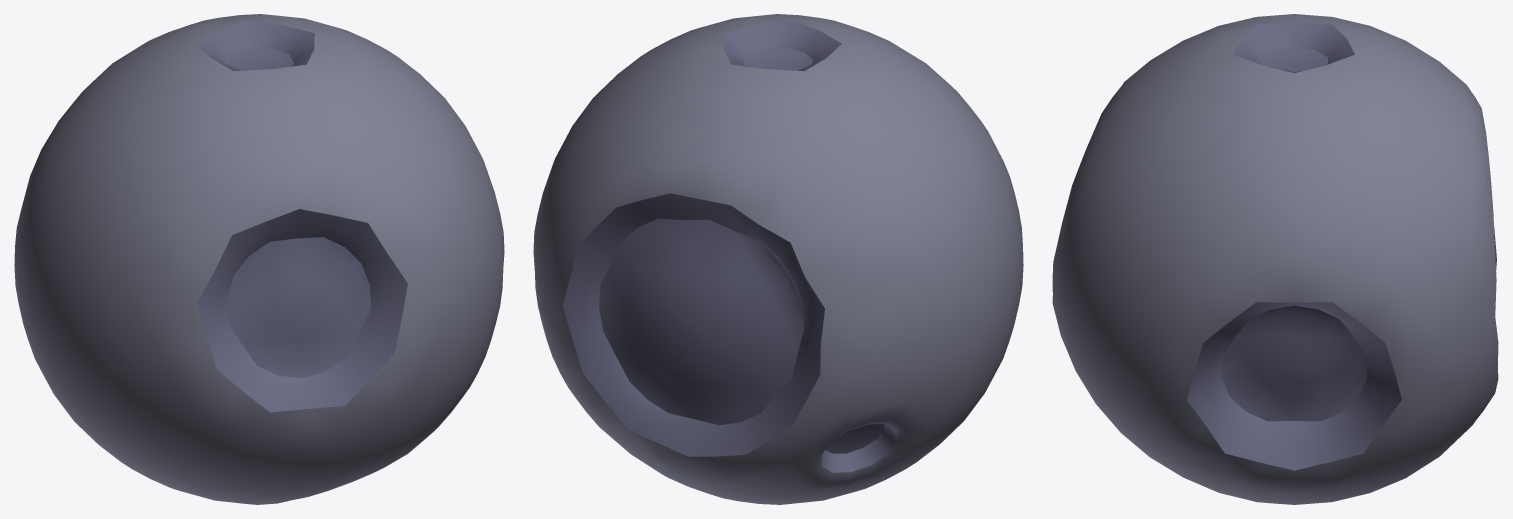
The model's file is Planet_3.gltf.
3 renders of one model, left to right at view 1: azimuth 30°, elevation 25°; view 2: azimuth 150°, elevation 25°; view 3: azimuth 270°, elevation 25°, orthographic.
Parts seen in each view (by area): view 1: Planet_3; view 2: Planet_3; view 3: Planet_3.
Boxes of the visible parts, x1,y1,x2,y2 form: Planet_3: (14, 14, 504, 504); Planet_3: (533, 14, 1023, 504); Planet_3: (1052, 14, 1498, 504).
Bounding box in the file's own units: 3.63 × 3.65 × 3.38.
1 material, 1 textured.
